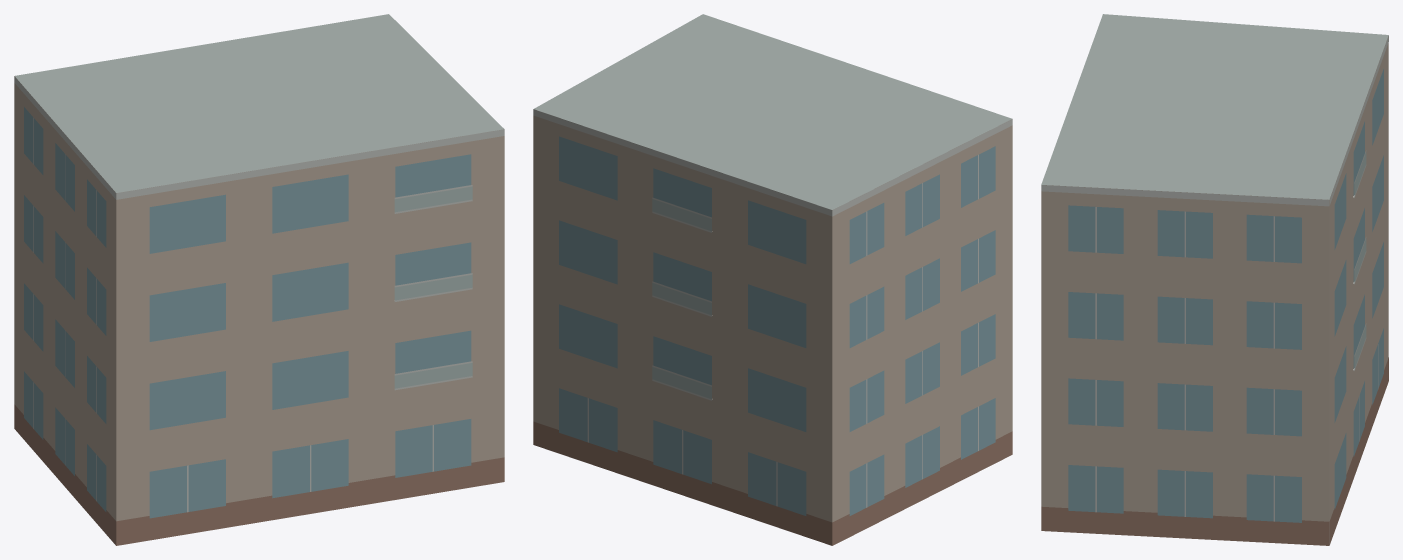
File: survey-upis-32706645.glb
3 renders of one model, left to right at view 1: azimuth 30°, elevation 25°; view 2: azimuth 150°, elevation 25°; view 3: azimuth 270°, elevation 25°, orthographic. The views are drawn at different scales.
Visible parts, largest first — view 1: survey-upis-32706645.tmp; view 2: survey-upis-32706645.tmp; view 3: survey-upis-32706645.tmp.
Part boxes in pixels (<box>): survey-upis-32706645.tmp: <box>14,14,504,545</box>; survey-upis-32706645.tmp: <box>533,14,1012,545</box>; survey-upis-32706645.tmp: <box>1041,14,1388,545</box>.
Size of the model in its own units: 14.75 by 12.8 by 11.66.
